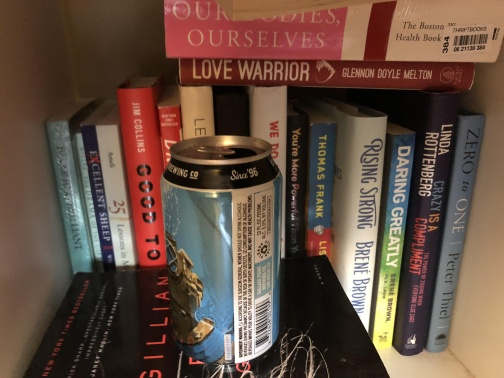can: (159, 134, 285, 366)
